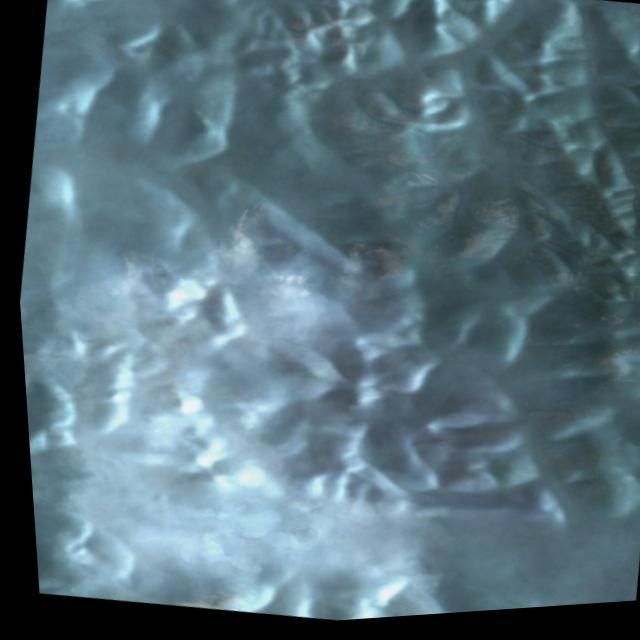fire: (199, 194, 276, 269)
